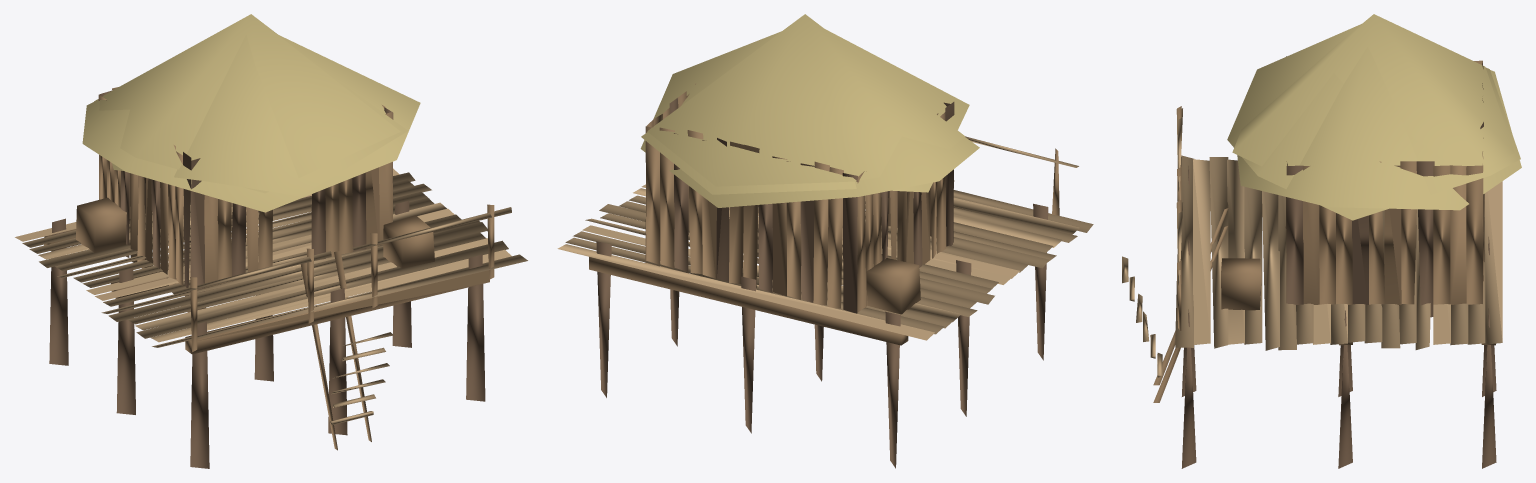
Rendered from poi_stilt_outpost_lods.96f332c0.glb.
3 renders of one model, left to right at view 1: azimuth 30°, elevation 25°; view 2: azimuth 150°, elevation 25°; view 3: azimuth 270°, elevation 25°, orthographic. The views are drawn at different scales.
Parts seen in each view (by area): view 1: poi_stilt_outpost_far; view 2: poi_stilt_outpost_far; view 3: poi_stilt_outpost_far.
Boxes of the visible parts, x1,y1,x2,y2 form: poi_stilt_outpost_far: (15,14,527,468); poi_stilt_outpost_far: (557,14,1093,468); poi_stilt_outpost_far: (1122,14,1521,468).
Size of what is drawn, in the model's own units: 7.1 by 6.43 by 6.13.
